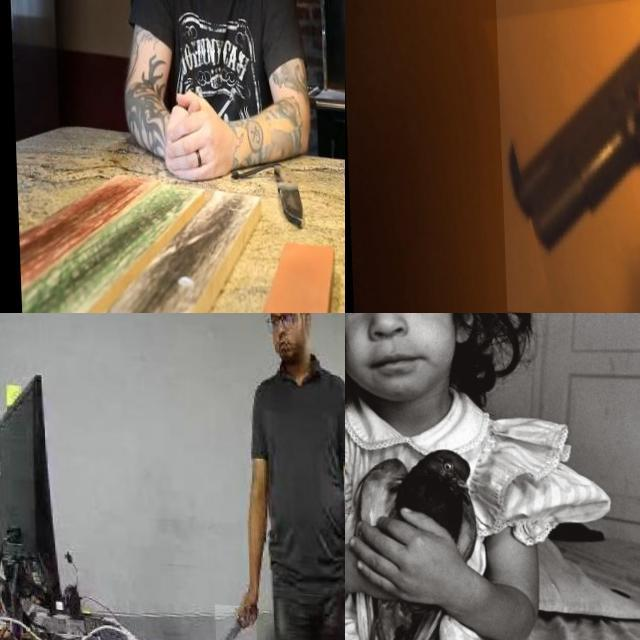-: (210, 600, 253, 640)
gun-knife-thesis - v11 Yolov5 augmented: (493, 0, 640, 313), (345, 558, 435, 640)
